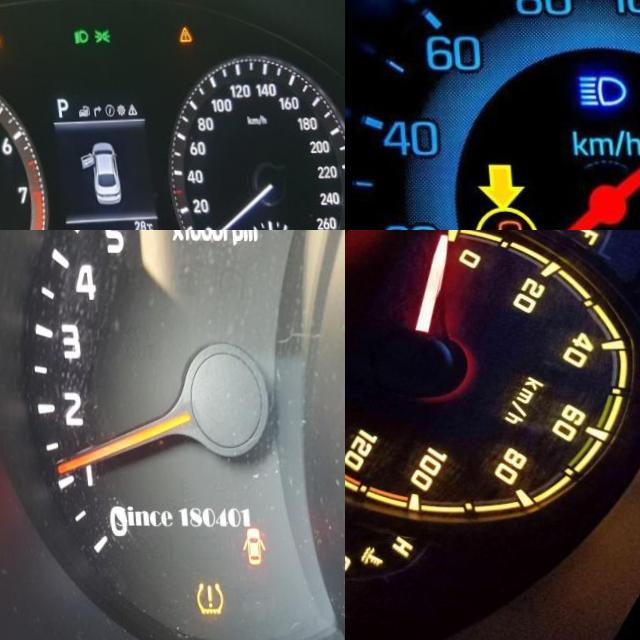Central Warning lamp: (174, 25, 188, 41)
Low beam: (69, 28, 85, 42)
SideLamp: (89, 28, 106, 42)
